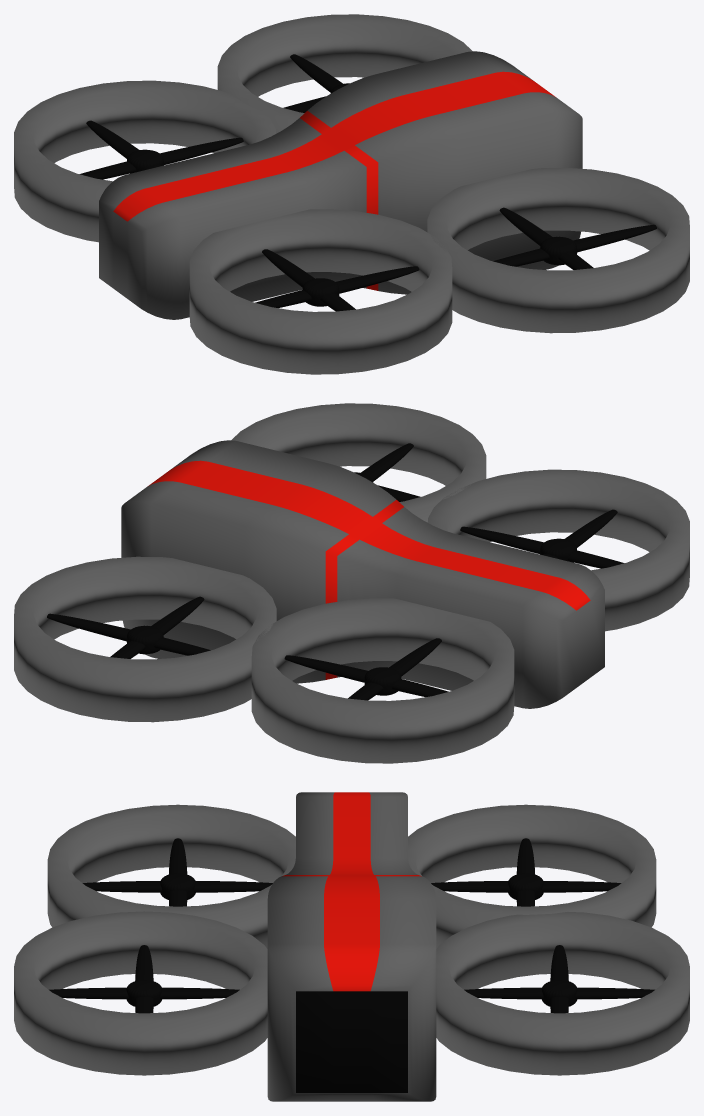
The model's file is Drone00.fbx.
3 renders of one model, top to bottom at view 1: azimuth 30°, elevation 25°; view 2: azimuth 150°, elevation 25°; view 3: azimuth 270°, elevation 25°, orthographic.
Parts seen in each view (by area): view 1: Cuerpo, Ala.002, Ala.003, Ala.001, Ala, AlaSoporte.002, AlaSoporte.003, AlaSoporte.001, AlaSoporte; view 2: Cuerpo, Ala.001, Ala, Ala.002, Ala.003, AlaSoporte.001, AlaSoporte, AlaSoporte.002, AlaSoporte.003; view 3: Cuerpo, Ala.003, Ala, Ala.001, Ala.002, AlaSoporte, AlaSoporte.003, AlaSoporte.001, AlaSoporte.002.
Part boxes in pixels (left/top/right/bottom): Cuerpo: left=99, top=51, right=582, bottom=319; Ala.002: left=189, top=209, right=452, bottom=374; Ala.003: left=427, top=167, right=689, bottom=333; Ala.001: left=14, top=80, right=276, bottom=242; Ala: left=217, top=14, right=472, bottom=133; AlaSoporte.002: left=255, top=249, right=419, bottom=311; AlaSoporte.003: left=493, top=207, right=656, bottom=269; AlaSoporte.001: left=79, top=120, right=243, bottom=179; AlaSoporte: left=283, top=54, right=349, bottom=112; Cuerpo: left=121, top=440, right=604, bottom=708; Ala.001: left=251, top=598, right=514, bottom=763; Ala: left=14, top=556, right=276, bottom=722; Ala.002: left=427, top=469, right=689, bottom=631; Ala.003: left=231, top=403, right=486, bottom=522; AlaSoporte.001: left=284, top=638, right=448, bottom=700; AlaSoporte: left=47, top=596, right=210, bottom=658; AlaSoporte.002: left=460, top=509, right=624, bottom=568; AlaSoporte.003: left=354, top=443, right=420, bottom=501; Cuerpo: left=267, top=792, right=436, bottom=1101; Ala.003: left=14, top=911, right=267, bottom=1075; Ala: left=436, top=912, right=689, bottom=1075; Ala.001: left=408, top=804, right=656, bottom=948; Ala.002: left=47, top=804, right=295, bottom=948; AlaSoporte: left=464, top=945, right=654, bottom=1013; AlaSoporte.003: left=49, top=945, right=239, bottom=1013; AlaSoporte.001: left=431, top=838, right=621, bottom=906; AlaSoporte.002: left=82, top=838, right=272, bottom=906.
Bounding box in the file's own units: 915 × 300 × 1205.
